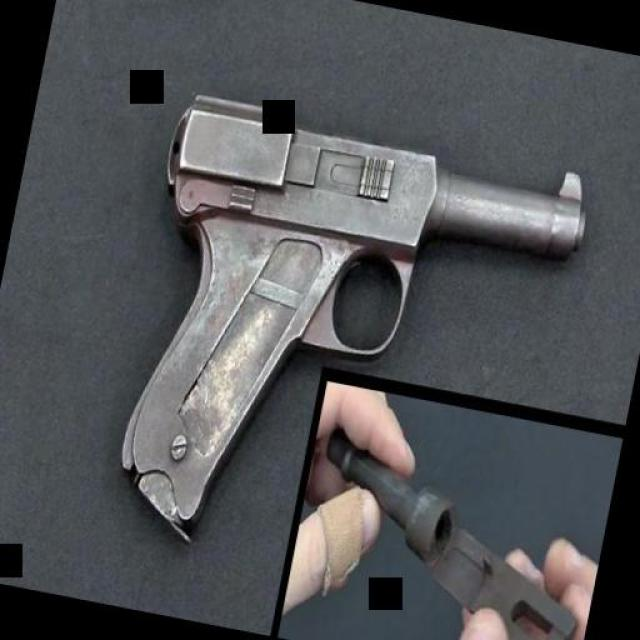gun: (92, 76, 602, 612)
